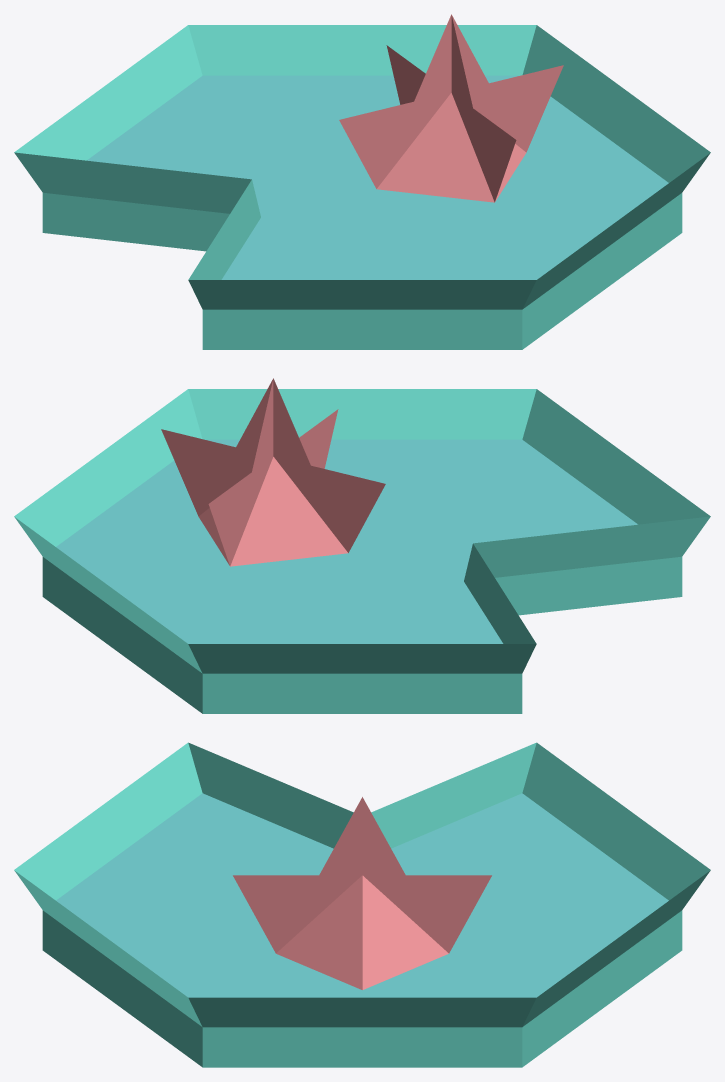
File: lily_large.gltf
The picture shows the model from 3 angles, top to bottom: view 1: azimuth 30°, elevation 25°; view 2: azimuth 150°, elevation 25°; view 3: azimuth 270°, elevation 25°; orthographic projection.
Visible parts, largest first — view 1: lily_large; view 2: lily_large; view 3: lily_large.
Boxes of the visible parts, x1,y1,x2,y2 form: lily_large: (14,14,710,349); lily_large: (14,378,710,713); lily_large: (14,742,710,1067).
Bounding box in the file's own units: 0.2719 × 0.098 × 0.3139.
